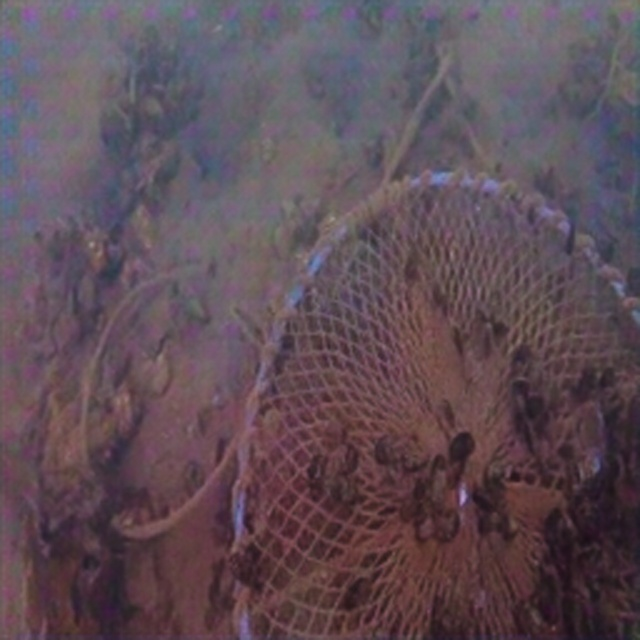mine: (228, 164, 640, 639)
